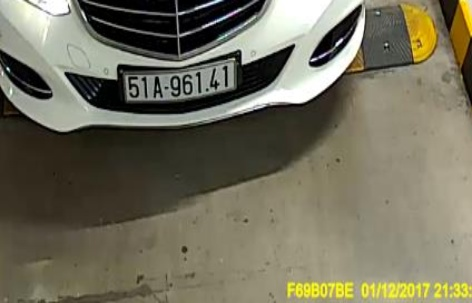plate: (121, 65, 241, 104)
